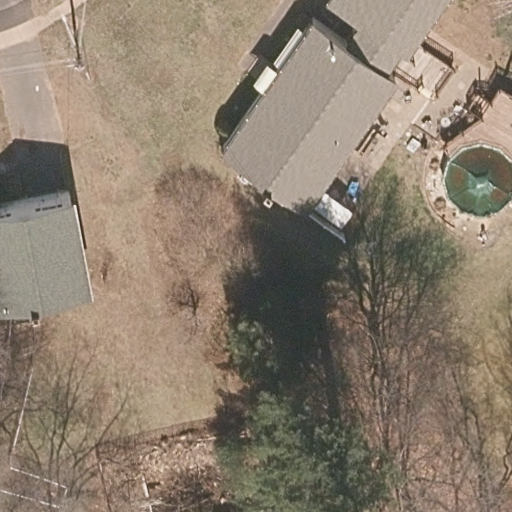DT: (61, 13, 88, 75)
